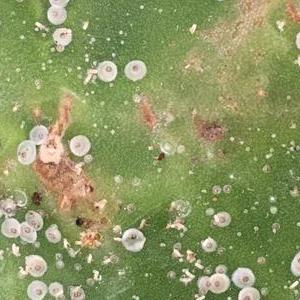Femea: (2, 220, 16, 235), (236, 271, 250, 285), (129, 62, 143, 75), (100, 64, 114, 77), (26, 214, 39, 228), (70, 139, 85, 151), (30, 283, 42, 298), (30, 258, 42, 273), (209, 277, 223, 289), (20, 224, 31, 239), (48, 6, 61, 18), (19, 145, 30, 158), (56, 30, 70, 40), (239, 290, 254, 299), (32, 129, 44, 140), (213, 214, 227, 223), (198, 277, 210, 287)
Macho: (81, 72, 93, 85), (286, 278, 299, 288), (86, 65, 98, 75), (85, 252, 92, 263)
